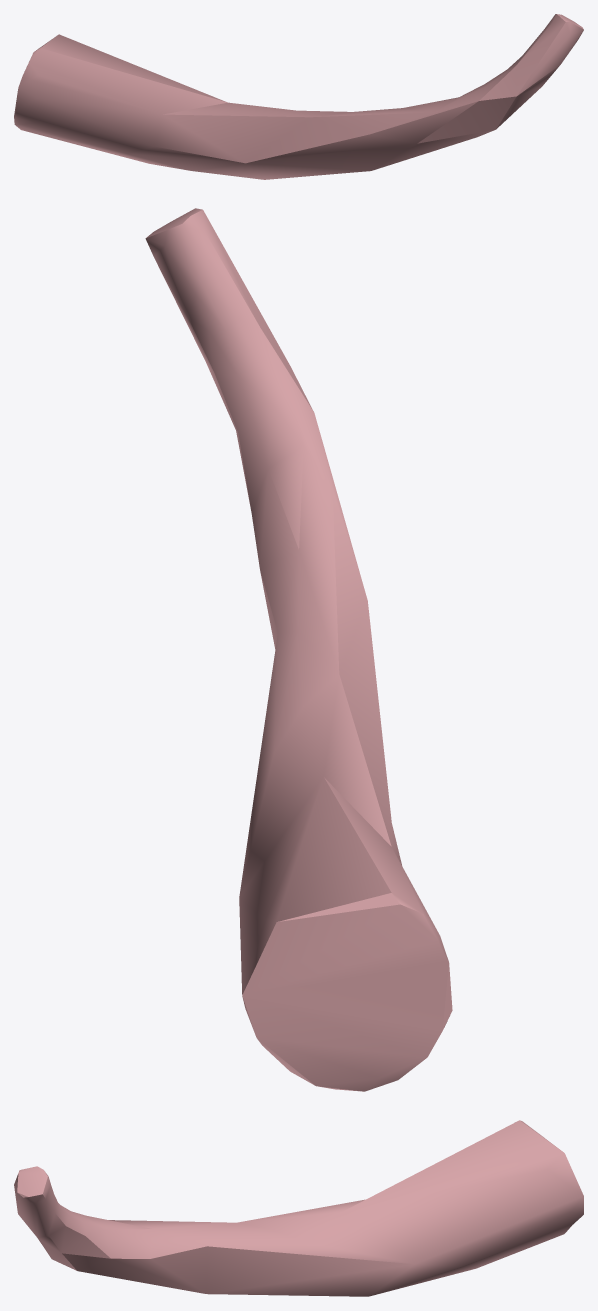
The model's file is fma68222_fj6497.glb.
3 views of the same model, one above another, from view 1: azimuth 30°, elevation 25°; view 2: azimuth 150°, elevation 25°; view 3: azimuth 270°, elevation 25° (orthographic). The views are drawn at different scales.
Visible parts, largest first — view 1: FMA68222_FJ6497; view 2: FMA68222_FJ6497; view 3: FMA68222_FJ6497.
Boxes of the visible parts, x1=… form: FMA68222_FJ6497: x1=14, y1=14, x2=583, y2=179; FMA68222_FJ6497: x1=145, y1=208, x2=452, y2=1091; FMA68222_FJ6497: x1=14, y1=1120, x2=583, y2=1296.
Size of the model in its own units: 0.025 by 0.0139 by 0.0297.
